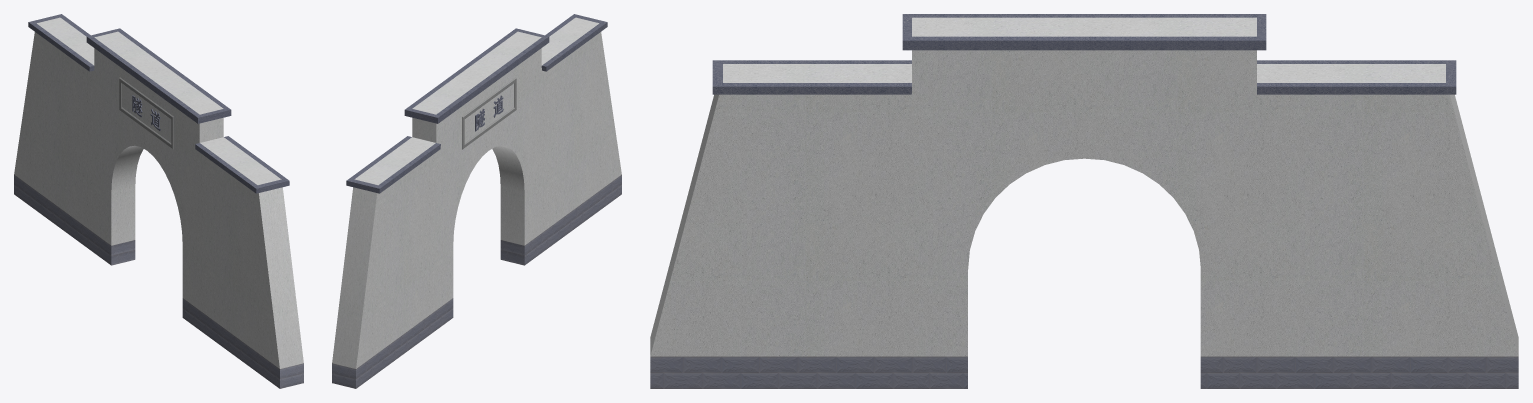
Rendered from Tunnel_door.fbx.
The picture shows the model from 3 angles, left to right: view 1: azimuth 30°, elevation 25°; view 2: azimuth 150°, elevation 25°; view 3: azimuth 270°, elevation 25°; orthographic projection. The views are drawn at different scales.
Parts seen in each view (by area): view 1: Suidao; view 2: Suidao; view 3: Suidao.
Part boxes in pixels (box(x1,y1,x2,y2)): Suidao: box(14, 14, 303, 388); Suidao: box(332, 14, 621, 388); Suidao: box(650, 14, 1518, 388).
Size of the model in its own units: 2.02 by 12.53 by 28.
4 materials, 4 textured.
